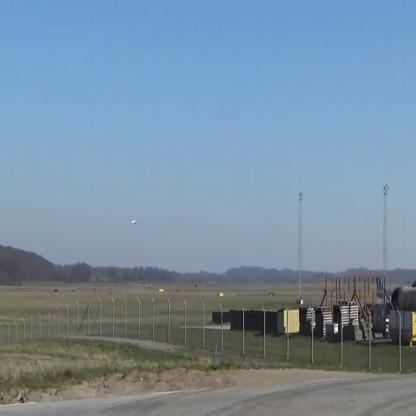CIV_Plane: (128, 215, 140, 229)
